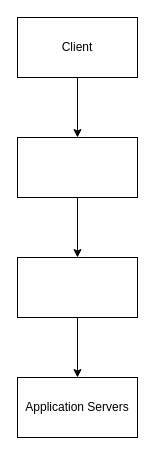
Some shapes in this 155 by 455 pixel diagram are drawn without their labels. Here are the shapes that lost their labels. From the top down, the centre of each, then its label:
At point (77, 167): "Load Balancer".
At point (77, 287): "SSL Termination Cluster".
